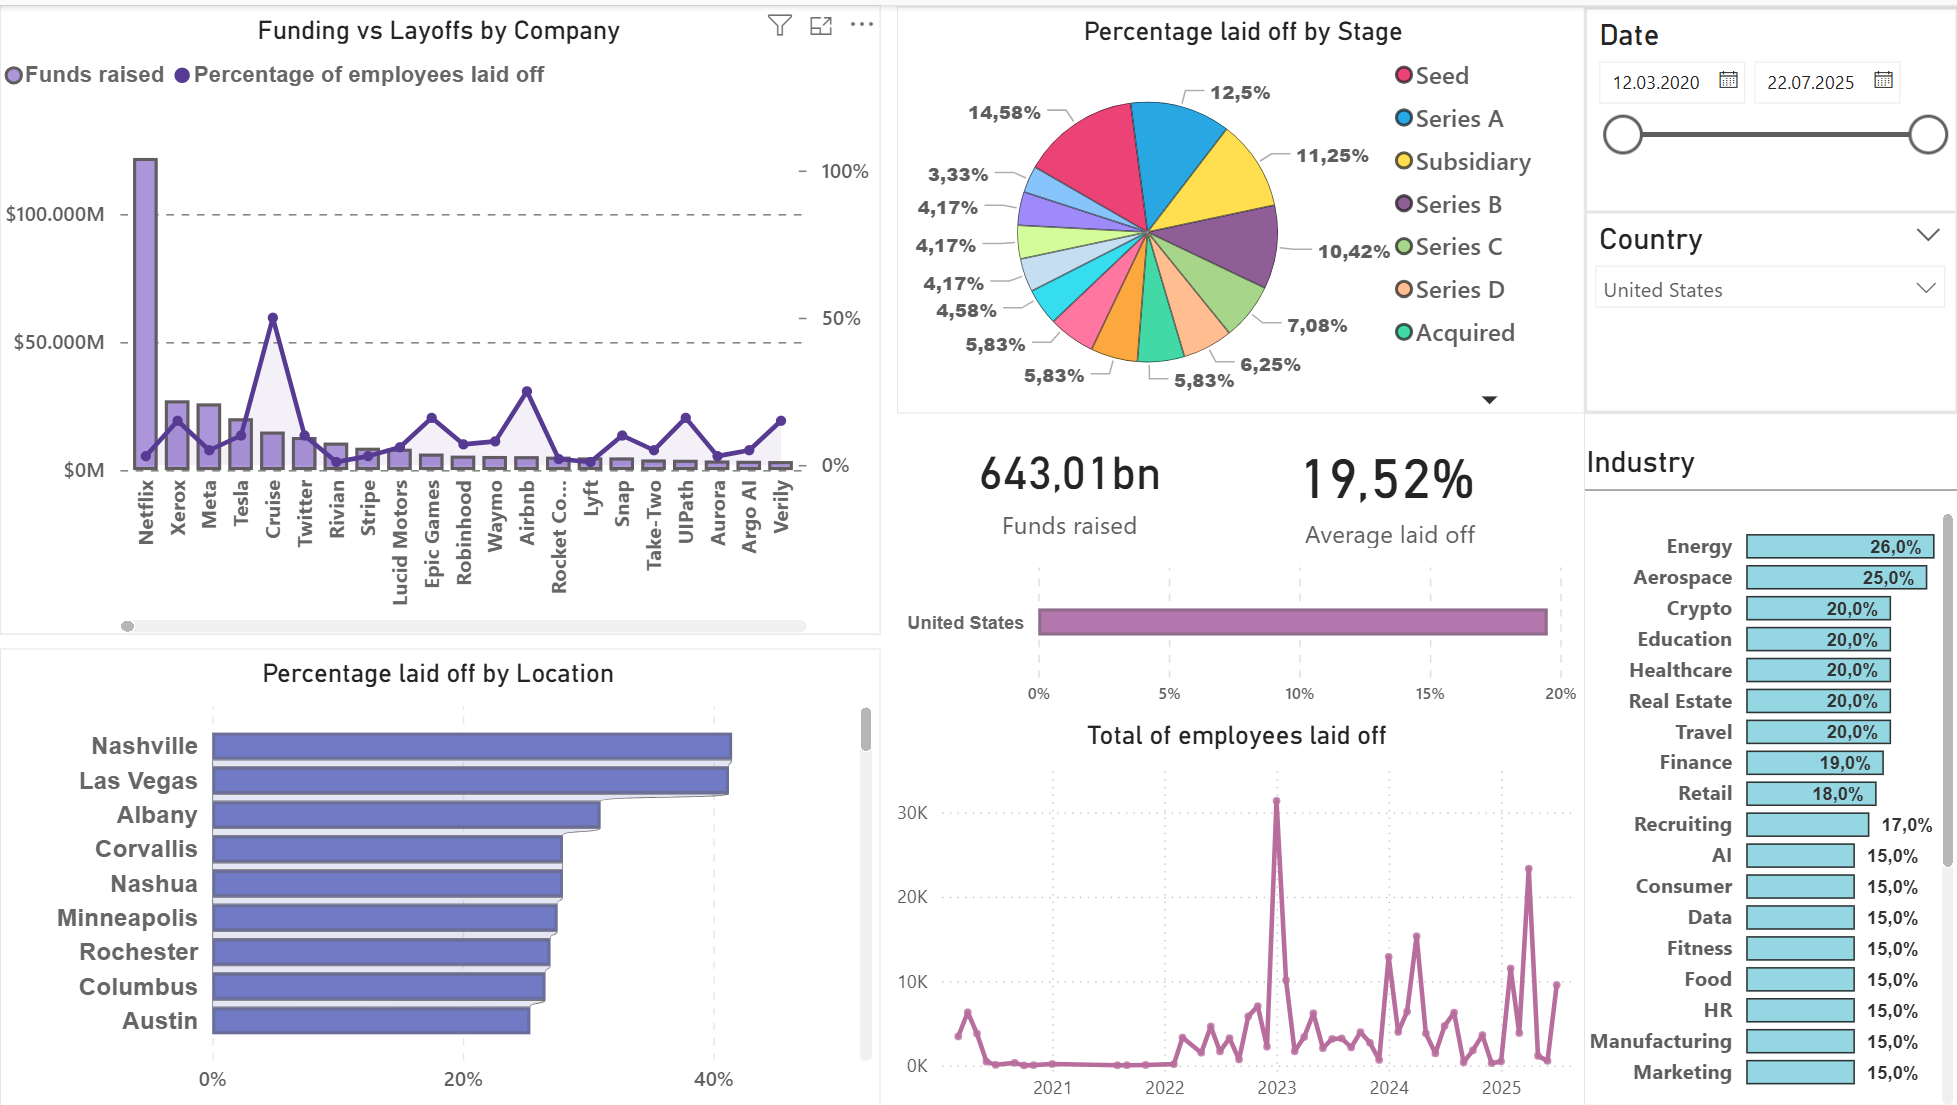

The dashboard page shown, as its layout file describes it:
{"tool":"powerbi","page":{"name":"Страница 1","canvas":[1280,720],"ordinal":0},"visuals":[{"type":"lineStackedColumnComboChart","title":"Funding vs Layoffs by Company","fields":{"Category":["layoffs.company"],"Y":["Sum(layoffs.funds_raised)"],"Y2":["Sum(layoffs.percentage_laid_off)"]},"box":[0,0,575.2,411.2],"z":0},{"type":"barChart","title":"Percentage laid off by Location","fields":{"Category":["layoffs.location"],"Y":["Divide(Median(layoffs.percentage_laid_off), ScopedEval(Median(layoffs.percentage_laid_off), []))"]},"box":[0,420.3,575.2,299.7],"z":1000},{"type":"pieChart","title":"Percentage laid off by Stage","fields":{"Category":["layoffs.stage"],"Y":["Median(layoffs.percentage_laid_off)"]},"box":[585.8,1.1,449,266.1],"z":2000},{"type":"card","fields":{"Values":["Sum(layoffs.funds_raised)"]},"box":[585.8,267.1,225,92.5],"z":3000},{"type":"card","fields":{"Values":["Avg(layoffs.percentage_laid_off)"]},"box":[810.8,273.4,190.3,86.2],"z":4000},{"type":"barChart","fields":{"Category":["layoffs.country"],"Y":["Divide(Median(layoffs.percentage_laid_off), ScopedEval(Median(layoffs.percentage_laid_off), []))"]},"box":[585.8,359.7,449,102],"z":5000},{"type":"lineChart","title":"Total of employees laid off","fields":{"Y":["Sum(layoffs.total_laid_off)"],"Category":["layoffs.date.Изменение.Date Hierarchy.Year","layoffs.date.Изменение.Date Hierarchy.Month"]},"box":[585.8,461.3,449,258.7],"z":6000},{"type":"slicer","fields":{"Values":["layoffs.date"]},"box":[1034.8,1.1,245,163],"z":7000},{"type":"slicer","fields":{"Values":["layoffs.country"]},"box":[1034.8,134.6,245,132.5],"z":8000},{"type":"barChart","title":"Industry","fields":{"Category":["layoffs.industry"],"Y":["Median(layoffs.percentage_laid_off)"]},"box":[1034.8,266.8,245,453.2],"z":9000}]}

Visuals, with their boxes in screenshot pixels (x1, y1, x2, y2), scaled from the page's 1280x720 canvas onto the 1957x1105 screenshot:
"Funding vs Layoffs by Company" lineStackedColumnComboChart: bbox=(0, 0, 879, 631)
"Percentage laid off by Location" barChart: bbox=(0, 645, 879, 1104)
"Percentage laid off by Stage" pieChart: bbox=(896, 2, 1582, 410)
card - Sum(layoffs.funds_raised): bbox=(896, 410, 1240, 552)
card - Avg(layoffs.percentage_laid_off): bbox=(1240, 420, 1531, 552)
barChart - layoffs.country x Divide(Median(layoffs.percentage_laid_off), ScopedEval(Median(layoffs.percentage_laid_off), [])): bbox=(896, 552, 1582, 709)
"Total of employees laid off" lineChart: bbox=(896, 708, 1582, 1104)
slicer - layoffs.date: bbox=(1582, 2, 1956, 252)
slicer - layoffs.country: bbox=(1582, 207, 1956, 410)
"Industry" barChart: bbox=(1582, 409, 1956, 1104)
